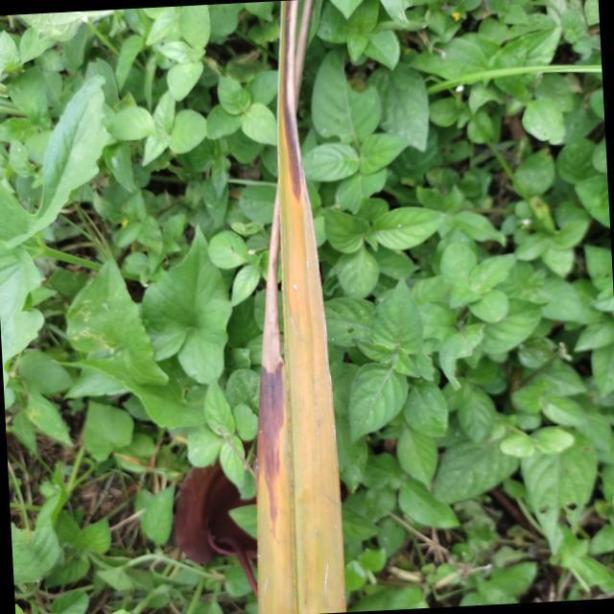Megnesium: (256, 0, 348, 614)
